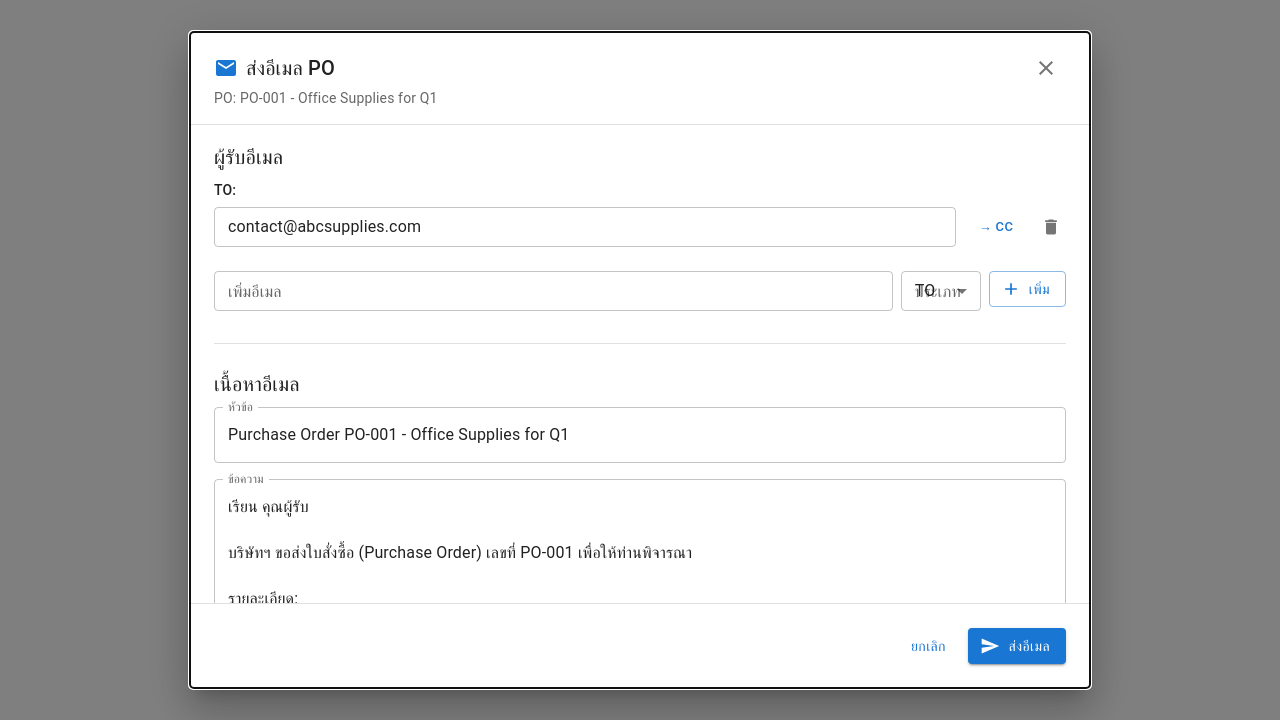
Test: POEmailDialog › allows adding new email recipients
In the field labelled "เพิ่มอีเมล": (553, 291) [214,271,893,311], type "test@example.com"
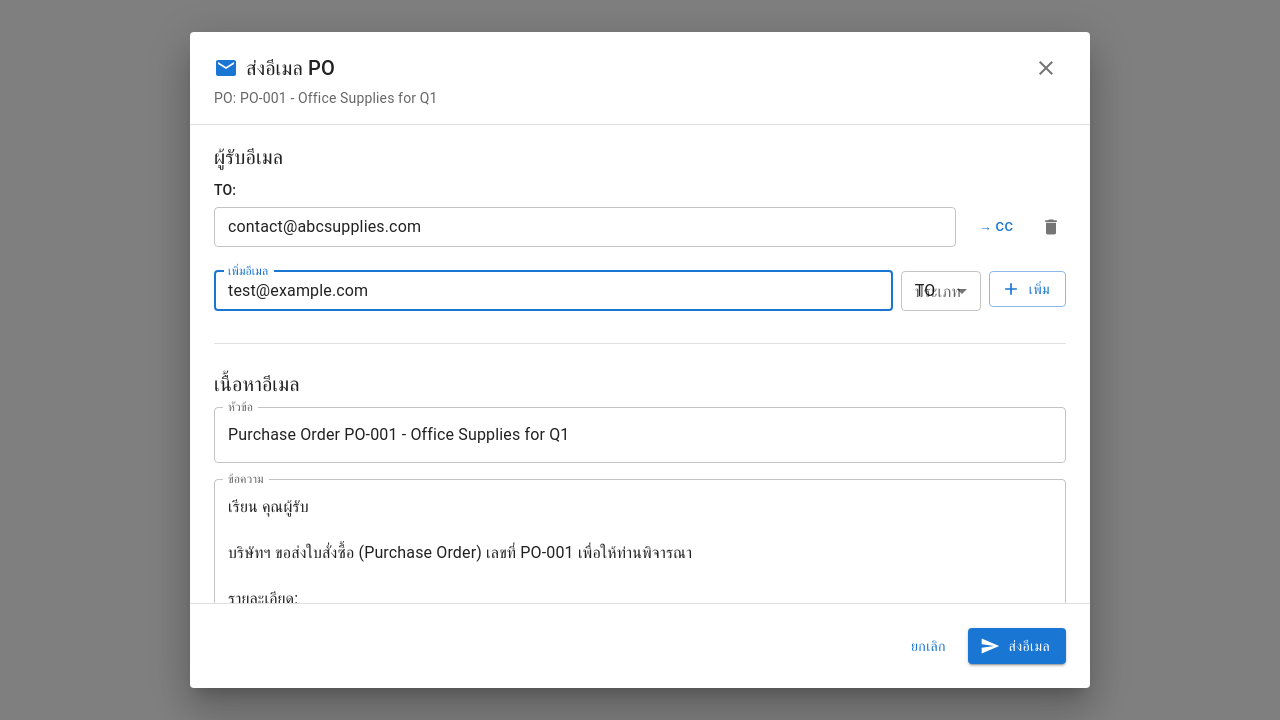
Click the button "เพิ่ม": (1027, 289) [989,271,1066,307]
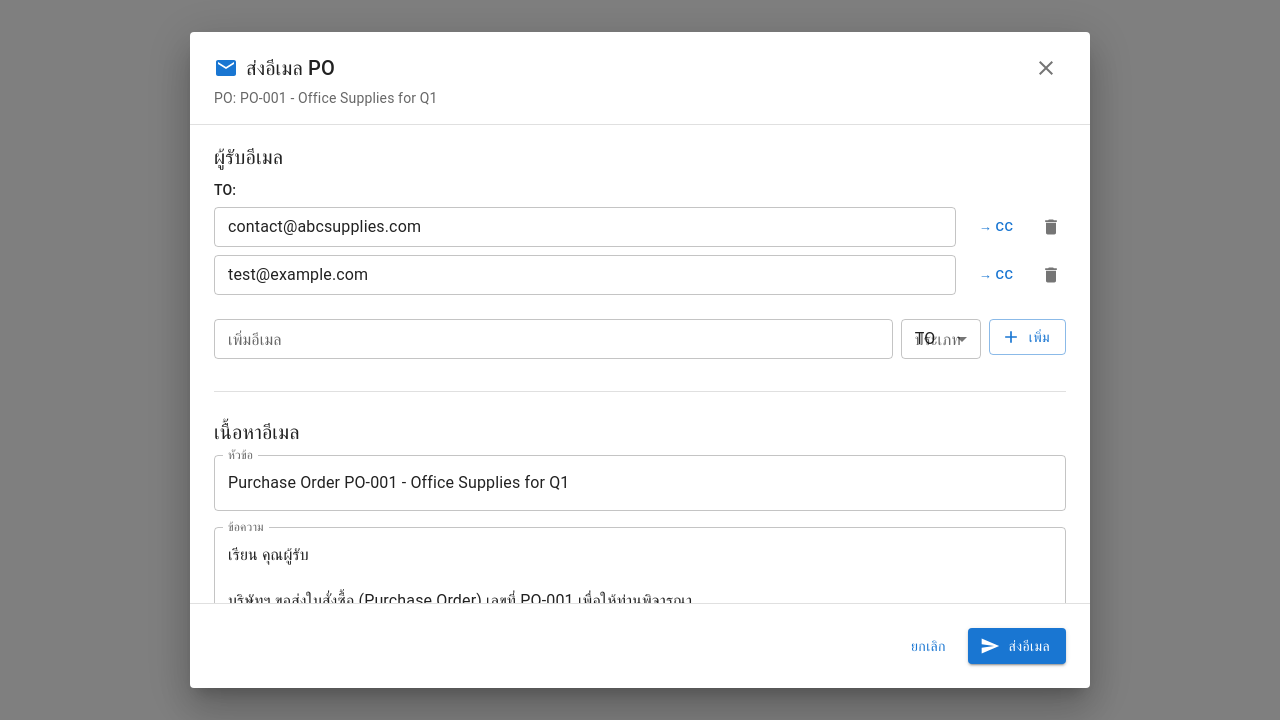
Expected: the 2nd field showing "test@example.com" is shown, [214,255,956,295]
